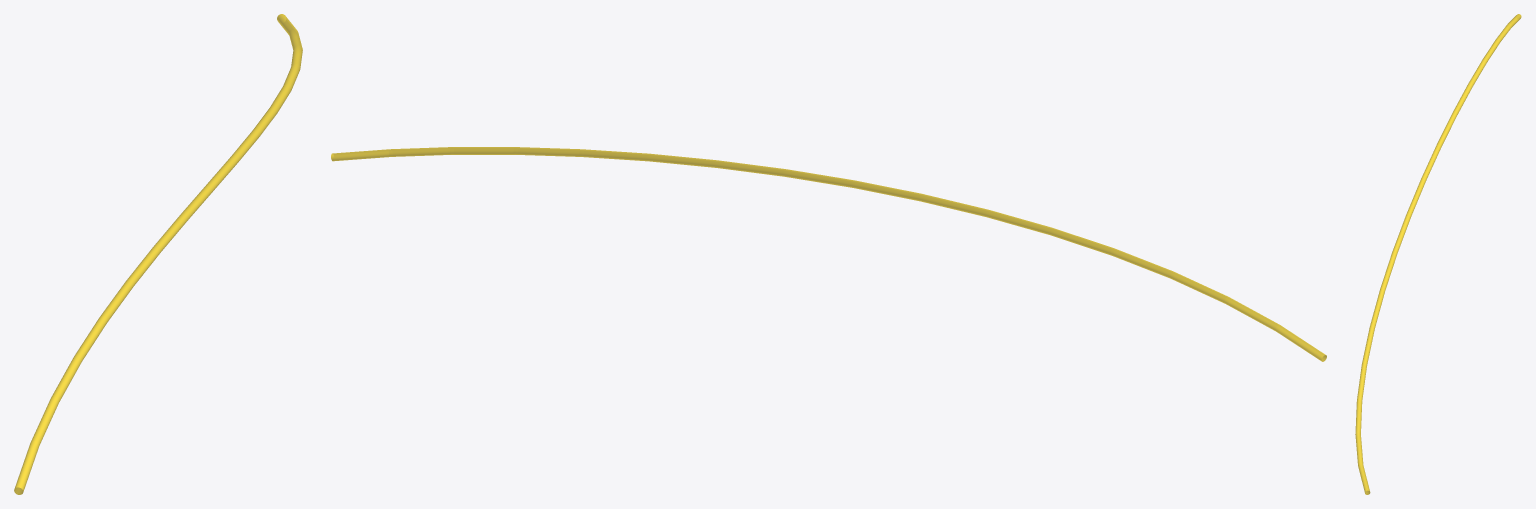
File: Event_402970704_track_42.fbx
3 renders of one model, left to right at view 1: azimuth 90°, elevation 25°; view 2: azimuth 150°, elevation 25°; view 3: azimuth 270°, elevation 25°, orthographic. The views are drawn at different scales.
Parts seen in each view (by area): view 1: Model; view 2: Model; view 3: Model.
Boxes of the visible parts, x1=… form: Model: x1=14, y1=14, x2=302, y2=494; Model: x1=331, y1=147, x2=1326, y2=361; Model: x1=1355, y1=14, x2=1521, y2=494.
Size of the model in its own units: 6.49 by 0.9921 by 1.22.
